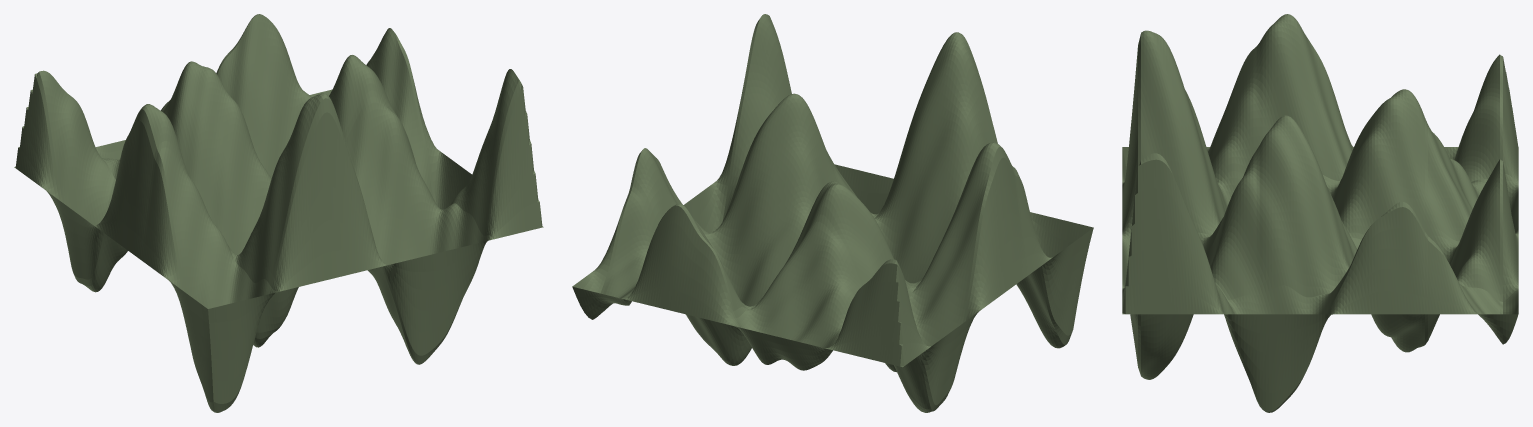
The model's file is sapphire_coral_ridge.obj.
The picture shows the model from 3 angles, left to right: view 1: azimuth 30°, elevation 25°; view 2: azimuth 150°, elevation 25°; view 3: azimuth 270°, elevation 25°; orthographic projection. The views are drawn at different scales.
Visible parts, largest first — view 1: sapphire_coral_ridge; view 2: sapphire_coral_ridge; view 3: sapphire_coral_ridge.
Part boxes in pixels (bbox=[...]): sapphire_coral_ridge: bbox=[14, 14, 543, 412]; sapphire_coral_ridge: bbox=[572, 14, 1093, 412]; sapphire_coral_ridge: bbox=[1122, 14, 1518, 412].
Bounding box in the file's own units: 28 × 23.76 × 28.
